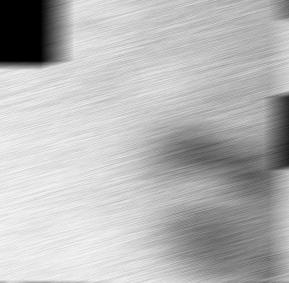Airbag: (0, 0, 289, 283), (281, 18, 289, 283)
